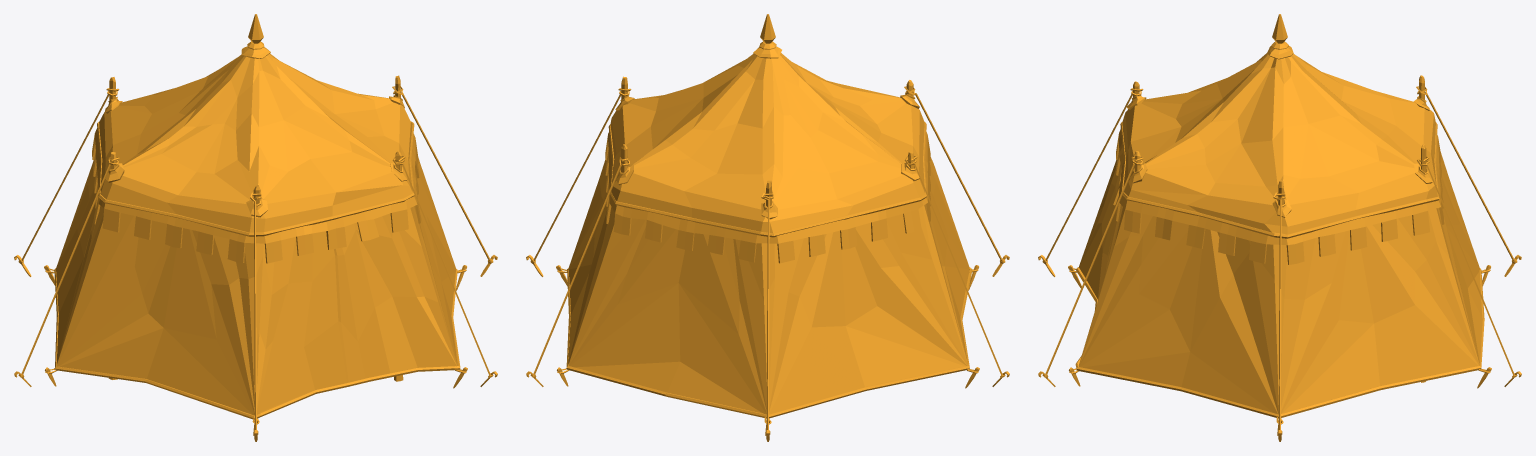
File: SM_Tent_Hexagon_Plain_Closed_Fantasy.fbx
3 views of the same model, side by side, from view 1: azimuth 30°, elevation 25°; view 2: azimuth 150°, elevation 25°; view 3: azimuth 270°, elevation 25° (orthographic).
Parts seen in each view (by area): view 1: tent-hexagon-plain-closed-fantasy; view 2: tent-hexagon-plain-closed-fantasy; view 3: tent-hexagon-plain-closed-fantasy.
Part boxes in pixels (left/top/right/bottom): tent-hexagon-plain-closed-fantasy: left=14, top=14, right=497, bottom=441; tent-hexagon-plain-closed-fantasy: left=526, top=14, right=1009, bottom=441; tent-hexagon-plain-closed-fantasy: left=1038, top=14, right=1521, bottom=441.
Size of the model in its own units: 8.07 by 5.31 by 7.02.
